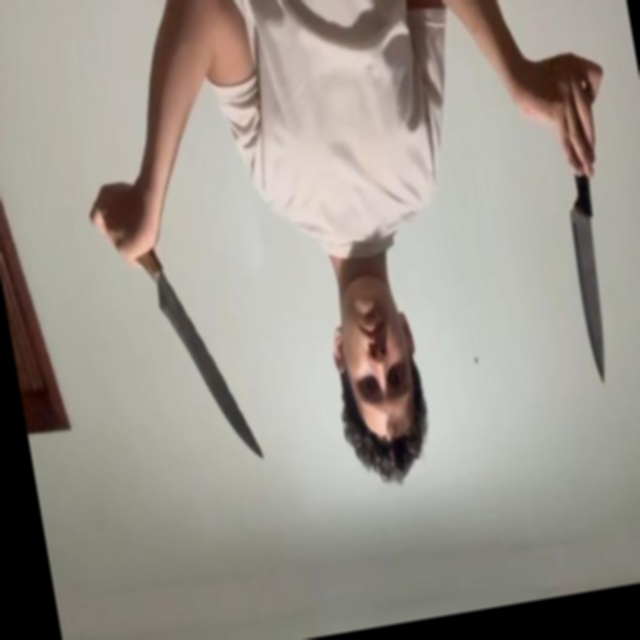Sharp-Object: (154, 274, 263, 471), (567, 212, 619, 387)
